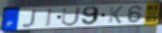6: (127, 5, 145, 24)
9: (81, 6, 102, 27)
I: (44, 7, 54, 28)
J: (21, 8, 38, 28)
K: (107, 6, 124, 24)
U: (61, 6, 83, 27)
